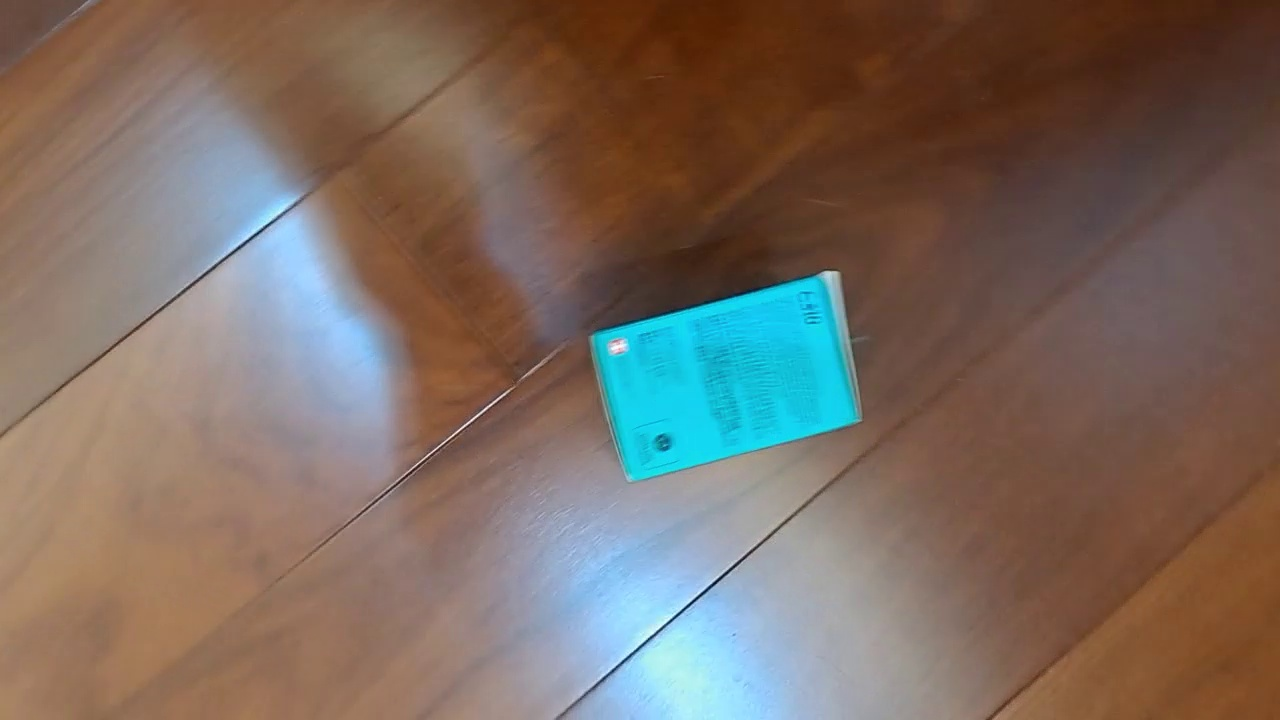webcam: (586, 268, 863, 484)
